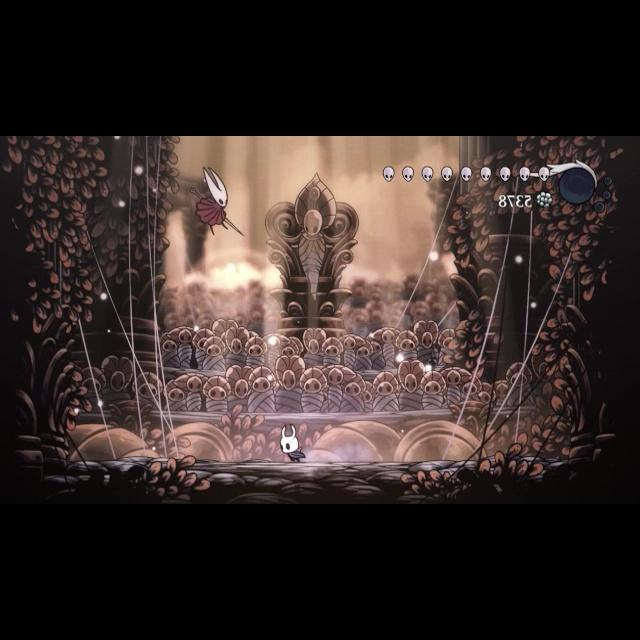EnemyLeadIn: (180, 160, 248, 244)
Player: (274, 420, 308, 470)
